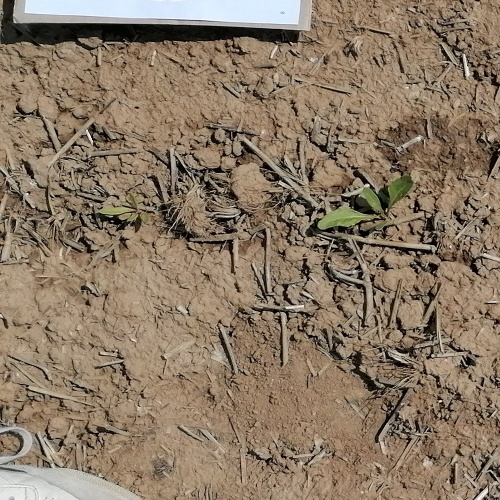beet: (317, 173, 414, 228), (97, 194, 153, 225)
